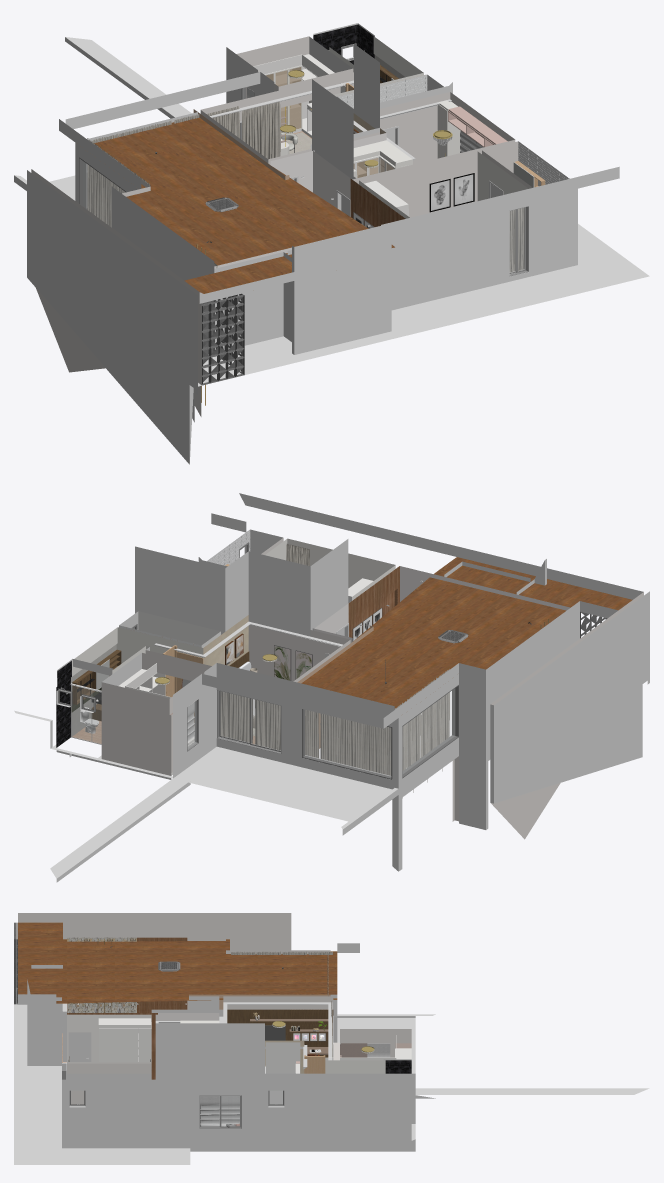
Rendered from casa-demarchi-maquete.glb.
3 views of the same model, one above another, from view 1: azimuth 30°, elevation 25°; view 2: azimuth 150°, elevation 25°; view 3: azimuth 270°, elevation 25° (orthographic). The views are drawn at different scales.
Parts seen in each view (by area): view 1: 3DGeom-16, 3DGeom-8851, 3DGeom-61381, 3DGeom-622, 3DGeom-25056, 3DGeom-61379, 3DGeom-62101, 3DGeom-62108, 3DGeom-27, 3DGeom-66099, 3DGeom-63340, 3DGeom-796 (+5 smaller); view 2: 3DGeom-16, 3DGeom-8851, 3DGeom-61381, 3DGeom-27, 3DGeom-622, 3DGeom-63338, 3DGeom-61379, 3DGeom-63340, 3DGeom-796, 3DGeom-63336, 3DGeom-588, 3DGeom-13 (+7 smaller); view 3: 3DGeom-16, 3DGeom-8851, 3DGeom-61381, 3DGeom-62101, 3DGeom-62472, 3DGeom-11136, 3DGeom-63340, 3DGeom-796, 3DGeom-63336, 3DGeom-59553, 3DGeom-27, 3DGeom-63338 (+6 smaller).
Boxes of the visible parts, x1,y1,x2,y2 form: 3DGeom-16: (14,23,649,464); 3DGeom-8851: (94,117,394,293); 3DGeom-61381: (31,36,532,416); 3DGeom-622: (87,101,524,272); 3DGeom-25056: (201,293,244,385); 3DGeom-61379: (214,133,405,268); 3DGeom-62101: (253,54,534,216); 3DGeom-62108: (274,65,460,178); 3DGeom-27: (83,87,524,272); 3DGeom-66099: (337,74,569,184); 3DGeom-63340: (359,151,528,218); 3DGeom-796: (350,178,405,226); 3DGeom-16: (14,493,649,882); 3DGeom-8851: (301,557,632,708); 3DGeom-61381: (101,538,643,839); 3DGeom-27: (72,685,454,777); 3DGeom-622: (220,544,449,798); 3DGeom-63338: (72,627,203,676); 3DGeom-61379: (314,566,570,642); 3DGeom-63340: (265,538,395,600); 3DGeom-796: (348,566,399,637); 3DGeom-63336: (138,611,220,647); 3DGeom-588: (302,685,458,779); 3DGeom-13: (58,542,281,753); 3DGeom-16: (14,943,649,1164); 3DGeom-8851: (18,922,337,1003); 3DGeom-61381: (16,913,411,1104); 3DGeom-62101: (98,1018,411,1073); 3DGeom-62472: (227,1009,333,1057); 3DGeom-11136: (200,1043,390,1124); 3DGeom-63340: (67,1014,151,1063); 3DGeom-796: (67,937,187,1079); 3DGeom-63336: (265,1042,299,1104); 3DGeom-59553: (67,937,136,1012); 3DGeom-27: (201,1090,282,1125); 3DGeom-63338: (325,1060,385,1073).
Size of what is drawn, in the model's own units: 16 by 8.2 by 24.
Materials: 203 (131 with a texture image).
